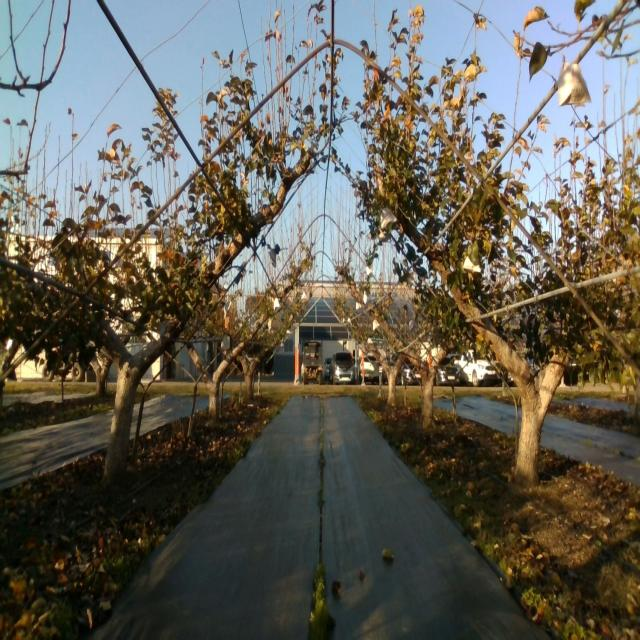pearbags: (557, 54, 592, 106), (146, 320, 164, 344), (380, 207, 396, 230)
